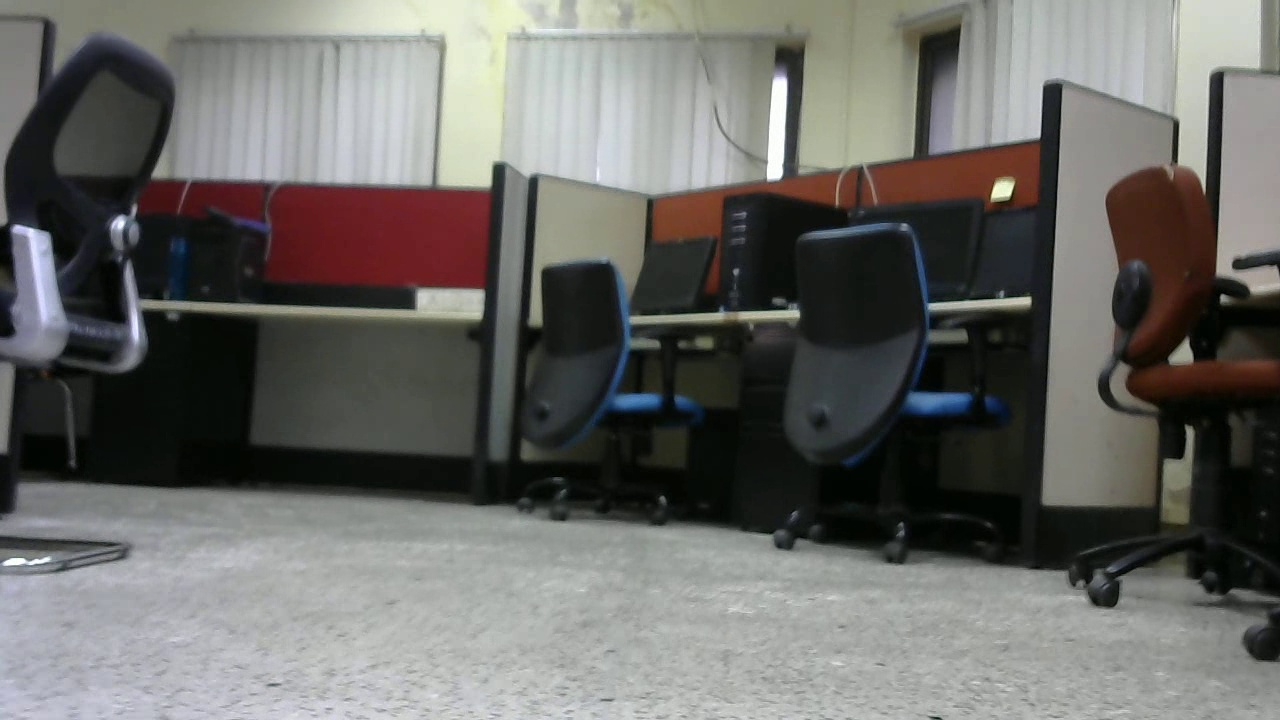chair: (1070, 148, 1280, 612), (775, 222, 1010, 569), (497, 255, 727, 521)
